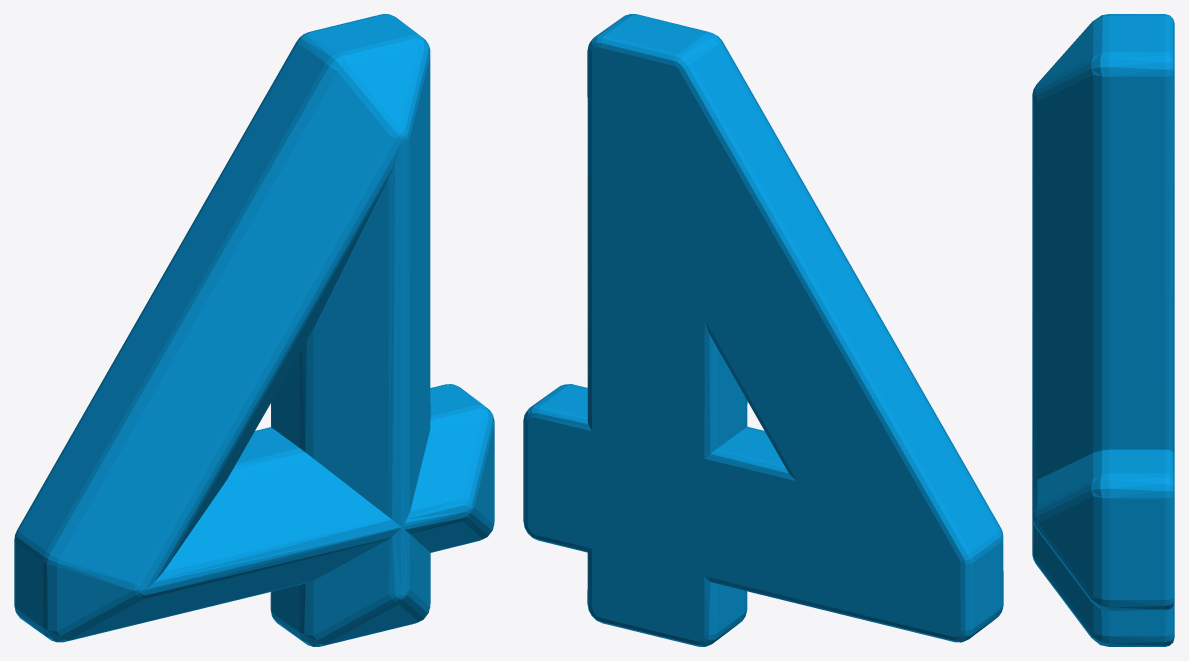
Rendered from four.obj.
The picture shows the model from 3 angles, left to right: view 1: azimuth 30°, elevation 25°; view 2: azimuth 150°, elevation 25°; view 3: azimuth 270°, elevation 25°; orthographic projection.
Visible parts, largest first — view 1: Object.1; view 2: Object.1; view 3: Object.1.
Part boxes in pixels (left/top/right/bottom): Object.1: left=14, top=14, right=494, bottom=646; Object.1: left=523, top=14, right=1003, bottom=646; Object.1: left=1032, top=14, right=1174, bottom=646.
Bounding box in the file's own units: 19.6 × 24.5 × 5.32.
